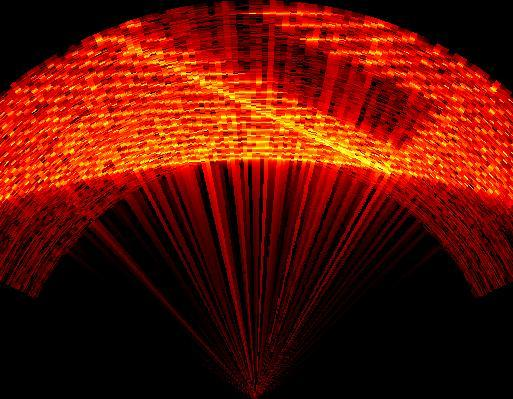pipe: (109, 6, 444, 175)
